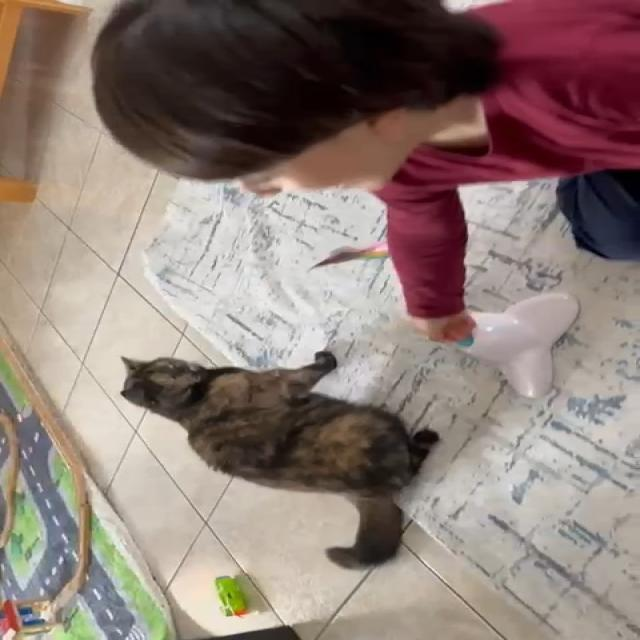authorized: (119, 350, 440, 569)
